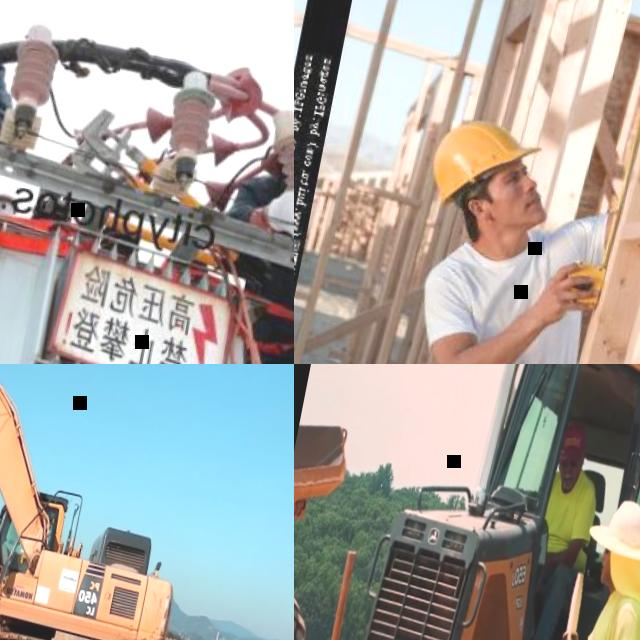Hardhat: (423, 110, 548, 224)
NO-Hardhat: (603, 495, 640, 560), (561, 421, 592, 459)
NO-Mask: (496, 182, 554, 232), (558, 466, 578, 493), (599, 558, 612, 583)
NO-Safety Vest: (414, 186, 614, 364), (225, 176, 294, 346), (538, 465, 604, 568), (565, 584, 640, 640)
Person: (322, 24, 640, 364), (180, 78, 294, 364), (512, 419, 613, 640), (533, 489, 640, 640)
vehicle: (294, 364, 640, 640), (0, 364, 223, 640)
